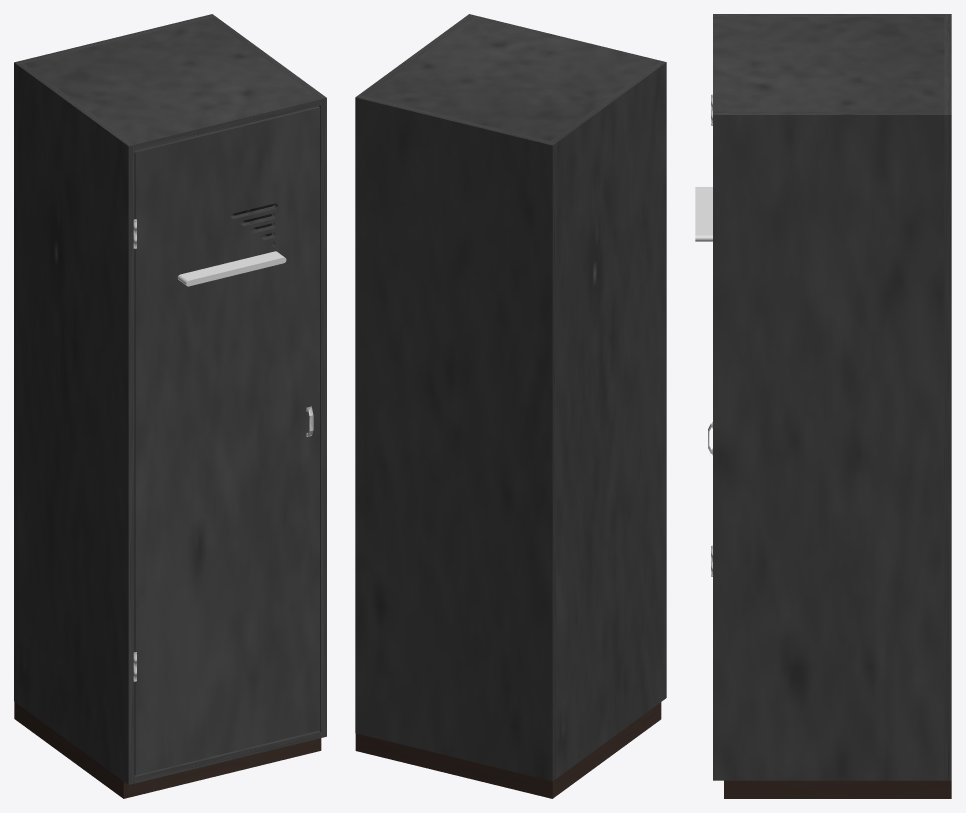
The model's file is broom_closet_old_metal_wt.fbx.
3 renders of one model, left to right at view 1: azimuth 30°, elevation 25°; view 2: azimuth 150°, elevation 25°; view 3: azimuth 270°, elevation 25°, orthographic. The views are drawn at different scales.
Parts seen in each view (by area): view 1: Door, Closet Box, Base, Door Cutout; view 2: Closet Box, Base; view 3: Closet Box, Base, Door Cutout.
Boxes of the visible parts, x1,y1,x2,y2 form: Door: (134, 106, 320, 775); Closet Box: (14, 14, 326, 784); Base: (14, 702, 321, 798); Door Cutout: (177, 251, 286, 286); Closet Box: (355, 14, 666, 781); Base: (355, 702, 661, 798); Closet Box: (713, 14, 951, 780); Base: (724, 780, 951, 798); Door Cutout: (695, 187, 712, 241).
Bounding box in the file's own units: 65 × 206 × 69.87.
Materials: 4 (4 with a texture image).
